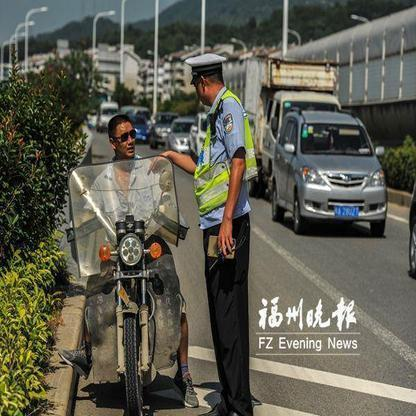target: (60, 114, 200, 413)
